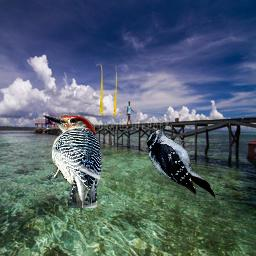Woodpecker: (39, 110, 105, 208), (145, 124, 217, 198)
